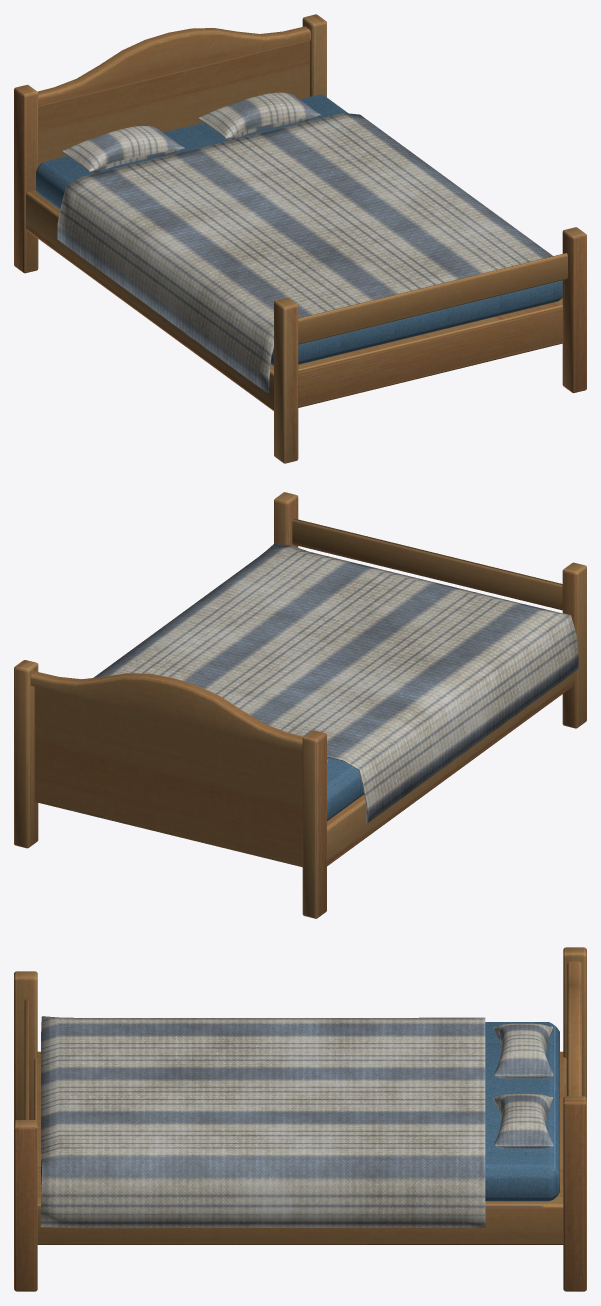
The model's file is bed.glb.
3 renders of one model, top to bottom at view 1: azimuth 30°, elevation 25°; view 2: azimuth 150°, elevation 25°; view 3: azimuth 270°, elevation 25°, orthographic. The views are drawn at different scales.
Visible parts, largest first — view 1: bed; view 2: bed; view 3: bed.
Boxes of the visible parts, x1=… form: bed: x1=14, y1=14, x2=586, y2=463; bed: x1=14, y1=492, x2=586, y2=918; bed: x1=14, y1=947, x2=586, y2=1291.
Size of the model in its own units: 2.17 by 1.33 by 3.27.
1 material, 1 textured.
